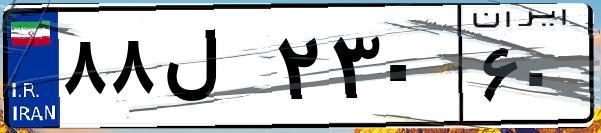0: (385, 28, 445, 110), (525, 38, 570, 115)
2: (270, 28, 330, 110)
3: (330, 28, 385, 110)
6: (475, 38, 525, 113)
8: (57, 26, 110, 100), (110, 28, 158, 98)
ل: (158, 20, 270, 120)
